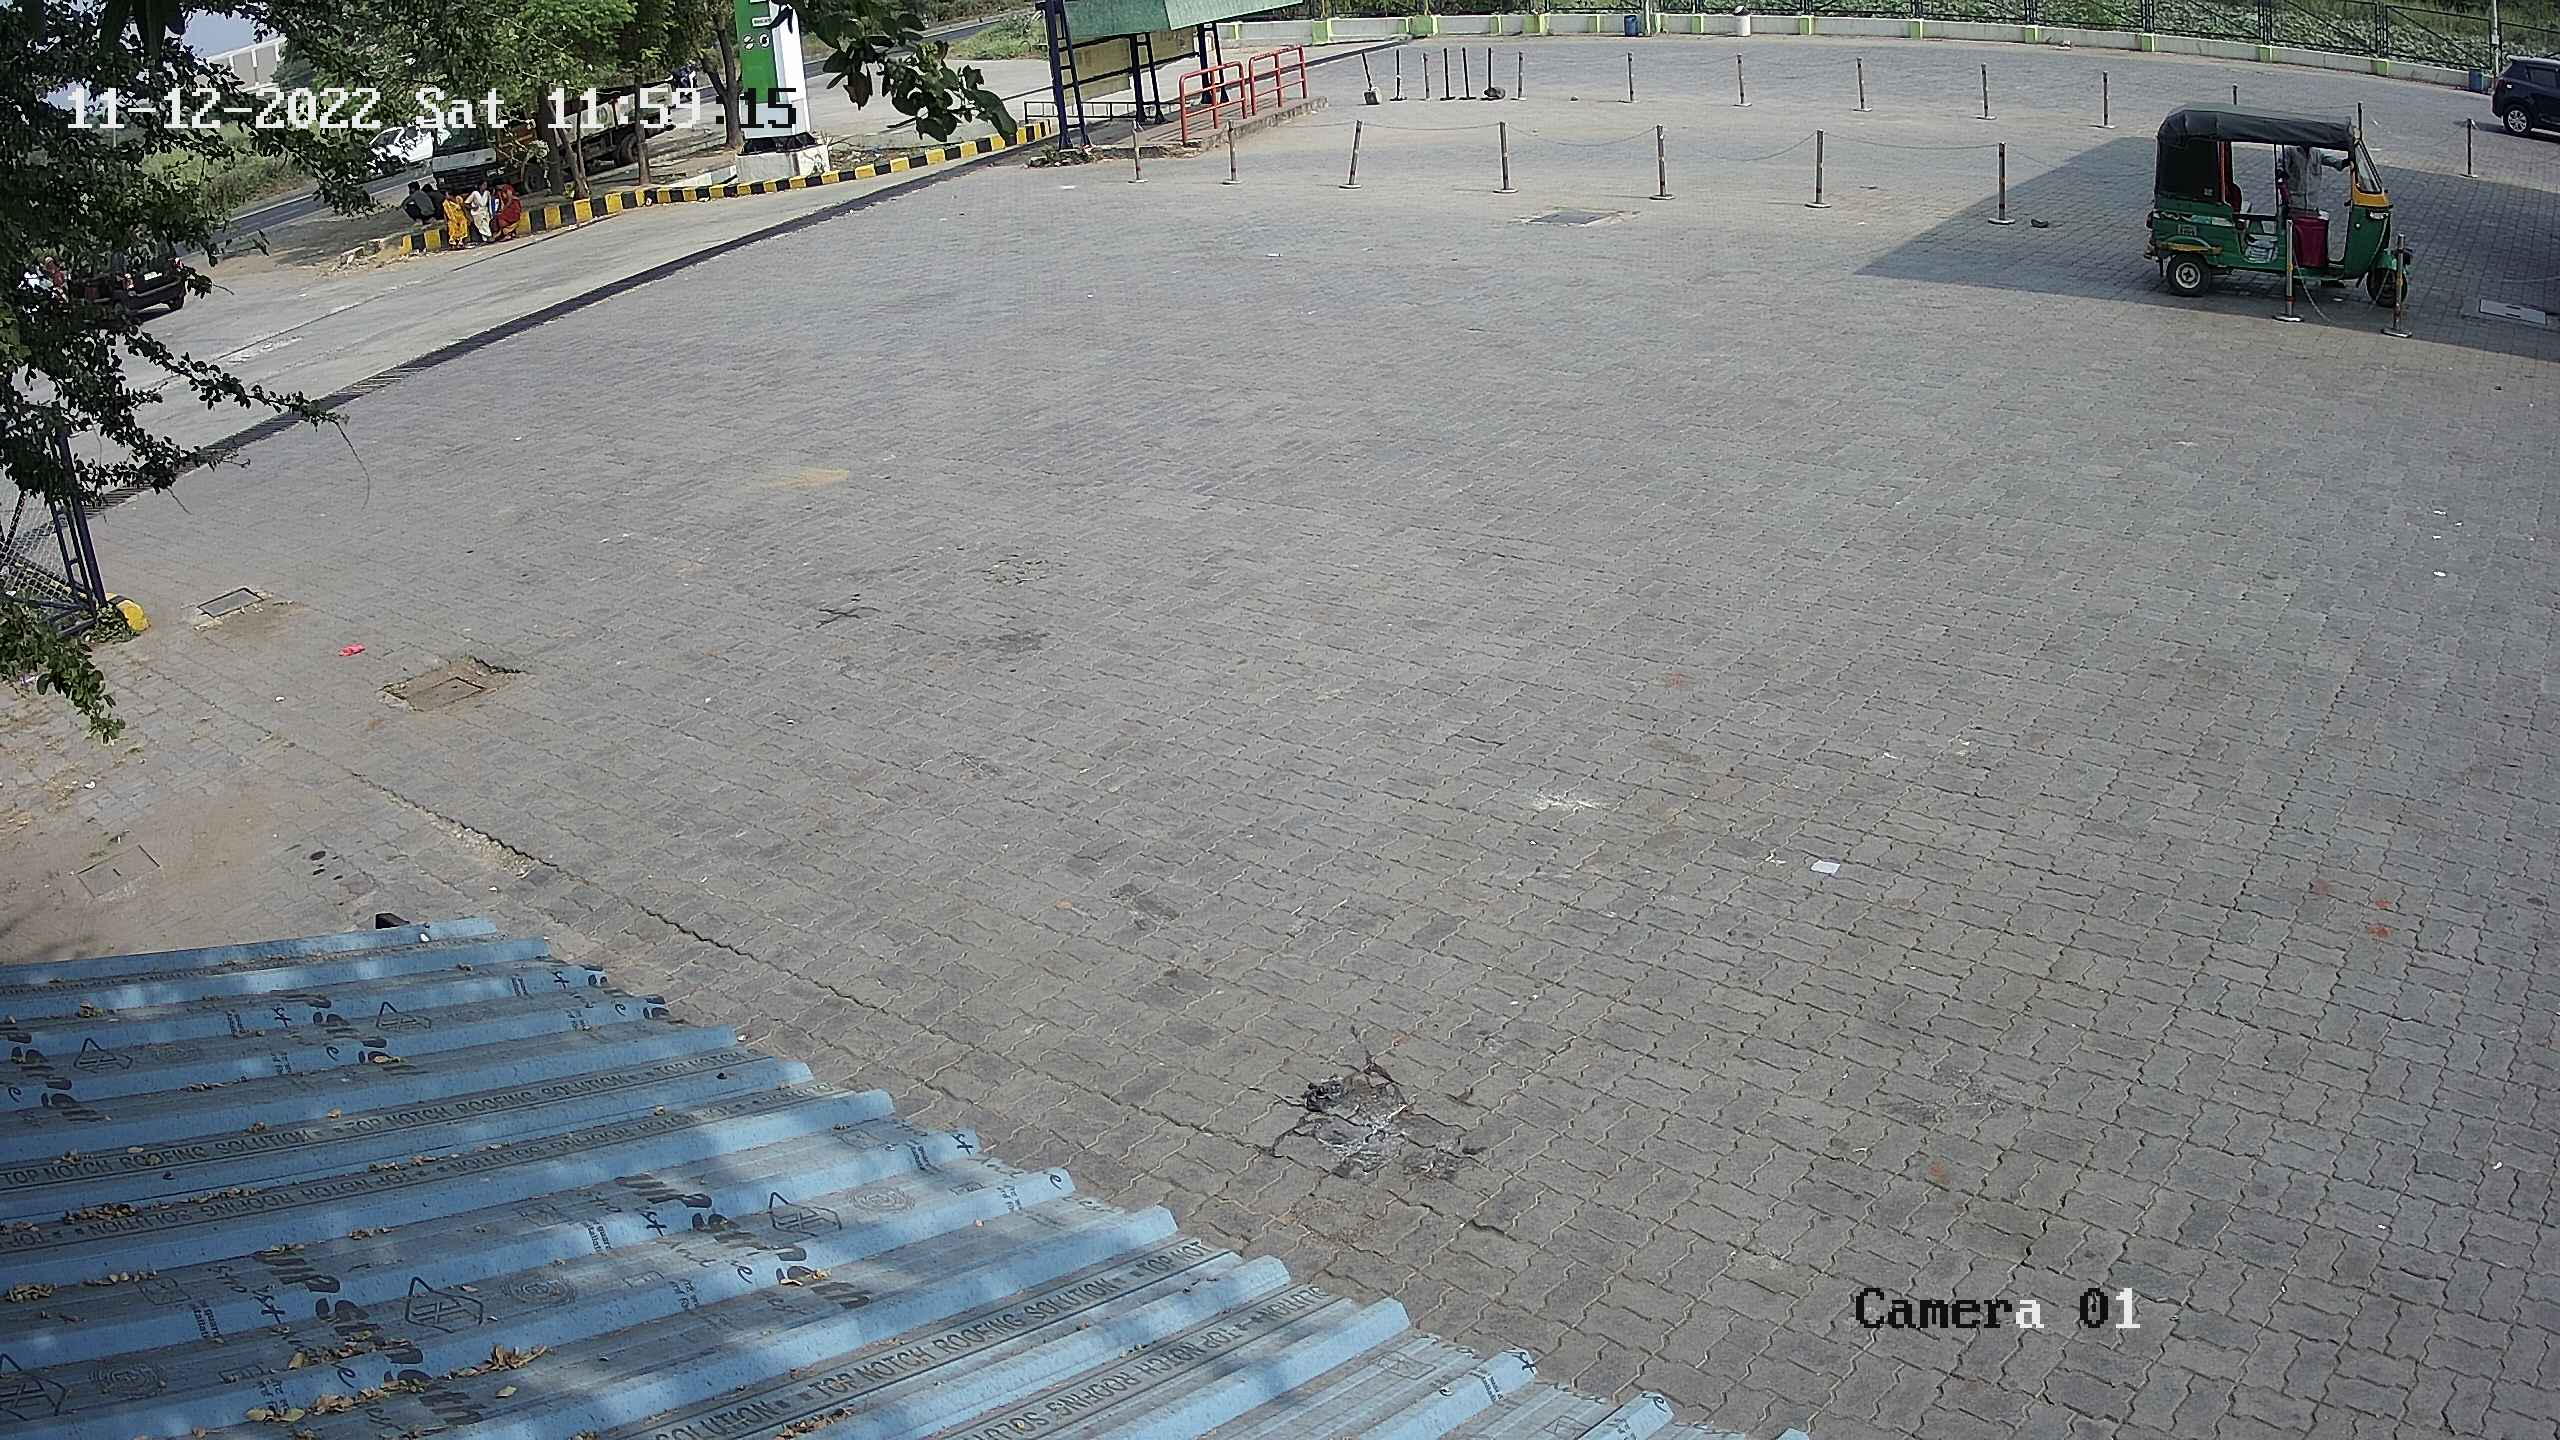Auto: (2127, 91, 2416, 320)
Car: (47, 193, 204, 346), (2477, 33, 2556, 148)
HMV: (404, 55, 568, 213)
